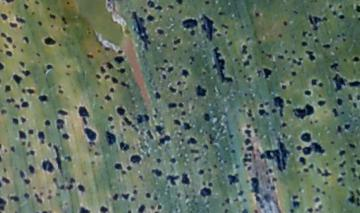tarspot: (260, 141, 289, 172), (212, 45, 233, 83), (131, 11, 150, 51), (307, 13, 327, 31), (292, 104, 314, 119), (200, 15, 213, 40), (53, 143, 62, 170), (333, 73, 346, 91), (274, 95, 284, 117), (82, 128, 97, 141), (250, 176, 260, 194), (77, 104, 90, 117), (194, 84, 207, 97), (312, 140, 325, 153), (105, 131, 116, 146), (227, 172, 239, 185), (41, 161, 55, 172), (181, 19, 197, 28), (166, 174, 179, 185), (128, 154, 142, 164), (305, 49, 316, 61), (158, 135, 171, 145), (300, 132, 312, 142), (200, 187, 212, 197), (55, 119, 65, 130), (155, 124, 165, 135), (263, 67, 272, 79), (34, 192, 43, 204), (43, 36, 56, 44), (182, 172, 190, 185), (115, 106, 125, 116), (152, 167, 162, 177), (119, 142, 130, 151), (27, 164, 36, 175), (146, 128, 154, 140), (13, 75, 22, 85), (110, 75, 119, 85), (302, 146, 312, 155), (15, 16, 26, 24), (136, 113, 144, 124), (9, 194, 20, 202), (56, 109, 68, 116), (349, 189, 355, 203), (22, 68, 31, 77), (18, 130, 27, 139), (203, 112, 211, 122), (244, 128, 252, 138), (79, 207, 92, 213), (241, 44, 248, 55), (322, 169, 333, 176), (18, 168, 25, 179), (121, 81, 130, 89), (182, 69, 190, 78), (337, 149, 346, 157), (337, 159, 346, 167), (243, 137, 252, 145), (138, 204, 146, 213), (100, 205, 109, 213), (77, 184, 86, 192), (22, 192, 31, 200), (38, 95, 48, 102), (114, 56, 124, 63), (125, 116, 132, 126), (143, 112, 150, 122), (172, 119, 182, 126), (1, 176, 11, 183), (1, 197, 6, 211), (187, 138, 198, 144), (190, 148, 201, 154), (106, 61, 114, 69), (114, 162, 122, 170), (330, 62, 338, 70), (254, 194, 262, 202), (111, 193, 119, 201), (166, 66, 175, 73), (168, 157, 177, 164), (182, 122, 191, 129), (331, 108, 338, 117), (336, 124, 343, 133), (299, 156, 306, 165), (121, 193, 130, 200), (5, 97, 15, 103), (167, 103, 177, 109), (189, 55, 195, 65), (208, 134, 214, 144), (219, 23, 229, 29), (321, 43, 331, 49), (316, 100, 326, 106), (1, 12, 8, 20), (6, 36, 13, 44), (23, 36, 30, 44), (4, 85, 11, 93), (38, 131, 45, 139), (64, 155, 72, 162), (131, 124, 138, 132), (173, 38, 181, 45), (218, 9, 226, 16), (347, 93, 354, 101), (343, 123, 351, 130), (315, 167, 322, 175), (292, 201, 300, 208), (355, 196, 360, 207), (9, 22, 18, 28), (26, 88, 35, 94), (61, 133, 70, 139), (168, 86, 177, 92), (193, 156, 202, 162), (300, 41, 309, 47), (256, 68, 261, 78), (242, 158, 252, 163), (46, 64, 53, 71), (49, 13, 56, 20), (20, 116, 27, 123), (147, 15, 154, 22), (148, 1, 155, 8), (301, 30, 308, 37), (258, 108, 265, 115), (336, 176, 343, 183), (281, 132, 288, 139), (198, 168, 205, 175), (120, 168, 127, 175), (5, 50, 13, 56), (62, 17, 68, 25), (100, 65, 106, 73), (157, 29, 165, 35), (155, 5, 163, 11), (242, 60, 250, 66), (352, 56, 360, 62), (311, 78, 317, 86), (304, 90, 312, 96), (337, 98, 343, 106), (103, 46, 112, 51), (19, 61, 26, 67), (28, 128, 34, 135), (45, 119, 51, 126), (119, 68, 126, 74), (152, 113, 158, 120), (159, 65, 165, 72), (167, 4, 174, 10), (177, 89, 183, 96), (203, 143, 209, 150), (212, 26, 218, 33), (339, 14, 346, 20), (287, 98, 293, 105), (349, 143, 356, 149), (354, 188, 360, 195), (296, 144, 302, 151), (292, 194, 299, 200), (247, 145, 254, 151), (224, 197, 230, 204), (237, 189, 243, 196), (145, 191, 151, 198), (69, 177, 76, 183), (24, 179, 31, 185), (21, 102, 29, 107), (104, 95, 112, 100), (88, 141, 96, 146), (291, 9, 299, 14), (247, 108, 252, 116), (138, 173, 143, 181), (1, 32, 7, 38), (13, 118, 19, 124), (10, 146, 16, 152), (155, 92, 161, 98), (175, 1, 184, 5), (318, 81, 324, 87), (340, 109, 346, 115), (281, 122, 287, 128), (307, 207, 313, 213), (271, 176, 277, 182), (228, 133, 234, 139), (130, 196, 136, 202), (67, 184, 73, 190), (59, 184, 65, 190), (52, 177, 58, 183), (24, 3, 29, 10), (3, 43, 10, 48), (38, 19, 43, 26), (103, 75, 110, 80), (83, 117, 88, 124), (29, 151, 36, 156), (155, 158, 162, 163), (178, 8, 183, 15), (180, 111, 187, 116), (247, 75, 252, 82), (283, 20, 288, 27), (290, 71, 297, 76), (329, 140, 336, 145), (302, 167, 309, 172), (152, 196, 159, 201), (54, 191, 61, 196), (87, 29, 92, 36), (349, 81, 360, 84), (86, 54, 94, 58), (277, 55, 285, 59), (241, 209, 249, 213), (34, 52, 40, 57), (62, 26, 67, 32), (1, 109, 7, 114), (26, 141, 31, 147), (118, 49, 124, 54), (95, 74, 101, 79), (108, 116, 114, 121), (47, 142, 53, 147), (120, 121, 126, 126), (126, 165, 132, 170), (146, 152, 151, 158), (162, 74, 167, 80), (163, 59, 169, 64), (154, 66, 159, 72), (171, 46, 177, 51), (178, 102, 184, 107), (192, 42, 198, 47), (223, 30, 229, 35), (228, 40, 234, 45), (255, 12, 260, 18), (239, 24, 245, 29), (233, 57, 239, 62), (355, 5, 360, 11), (333, 10, 338, 16), (308, 32, 313, 38), (267, 53, 273, 58), (342, 37, 347, 43), (284, 48, 289, 54), (298, 56, 304, 61), (281, 84, 287, 89), (288, 81, 293, 87), (352, 102, 358, 107), (272, 108, 277, 114), (245, 123, 251, 128), (340, 171, 346, 176), (309, 163, 314, 169), (323, 180, 329, 185), (314, 198, 320, 203), (270, 185, 275, 191), (213, 163, 218, 169), (230, 148, 236, 153), (208, 181, 213, 187), (224, 207, 229, 213), (255, 147, 260, 153), (176, 192, 181, 198), (3, 167, 8, 173), (1, 63, 5, 70), (21, 87, 25, 94), (296, 61, 303, 65), (254, 127, 258, 134), (245, 178, 249, 185), (6, 1, 15, 4), (42, 210, 51, 213), (19, 97, 24, 102), (15, 104, 20, 109), (100, 105, 105, 110), (3, 148, 8, 153), (88, 148, 93, 153), (95, 151, 100, 156), (91, 160, 96, 165), (123, 127, 128, 132), (162, 42, 167, 47), (180, 137, 185, 142), (177, 81, 182, 86), (246, 36, 251, 41), (327, 4, 332, 9), (338, 4, 343, 9), (277, 32, 282, 37), (314, 38, 319, 43), (336, 33, 341, 38), (314, 119, 319, 124), (353, 153, 358, 158), (268, 168, 273, 173), (324, 161, 329, 166), (316, 188, 321, 193), (318, 204, 323, 209), (315, 207, 320, 212), (207, 167, 212, 172), (234, 164, 239, 169), (202, 181, 207, 186), (182, 80, 187, 85), (223, 159, 228, 164), (12, 43, 16, 49), (34, 1, 40, 5), (46, 7, 52, 11), (65, 1, 71, 5), (49, 24, 55, 28), (58, 90, 64, 94), (94, 93, 100, 97), (143, 9, 149, 13), (153, 108, 159, 112), (258, 39, 262, 45), (293, 58, 297, 64), (265, 100, 269, 106), (260, 102, 264, 108), (133, 189, 137, 195), (176, 132, 183, 135), (58, 42, 62, 47), (66, 64, 71, 68), (21, 141, 26, 145), (41, 140, 45, 145), (97, 49, 102, 53), (109, 88, 114, 92), (110, 125, 115, 129), (191, 30, 195, 35), (205, 1, 210, 5), (243, 74, 248, 78), (261, 50, 266, 54), (287, 57, 292, 61), (356, 95, 360, 100), (317, 92, 321, 97), (265, 111, 270, 115), (356, 159, 360, 164), (351, 167, 355, 172), (290, 208, 294, 213), (247, 166, 252, 170), (243, 198, 248, 202), (260, 204, 265, 208), (254, 209, 259, 213), (244, 153, 248, 158), (249, 152, 253, 157), (150, 204, 154, 209), (47, 189, 52, 193), (47, 195, 52, 199), (202, 71, 206, 76), (336, 45, 339, 51), (310, 119, 313, 125), (126, 210, 132, 213), (58, 85, 62, 89), (159, 14, 163, 18), (249, 55, 253, 59), (239, 69, 243, 73), (244, 92, 248, 96), (251, 117, 255, 121), (353, 173, 357, 177), (322, 191, 326, 195), (39, 191, 43, 195), (20, 25, 23, 30), (20, 47, 23, 52), (66, 73, 71, 76), (217, 33, 222, 36), (357, 16, 360, 21), (292, 49, 295, 54), (234, 198, 239, 201), (192, 105, 195, 110), (32, 12, 35, 16), (1, 49, 4, 53), (158, 205, 161, 209), (1, 143, 3, 149), (154, 211, 160, 213), (358, 175, 360, 180), (344, 58, 347, 61), (1, 155, 2, 162), (1, 183, 2, 187)
